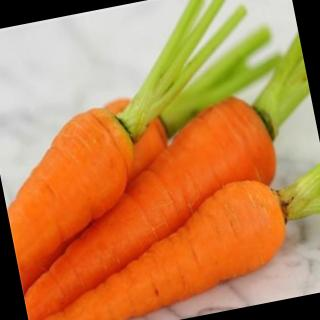Wortel: (1, 88, 299, 320), (10, 174, 300, 320)
